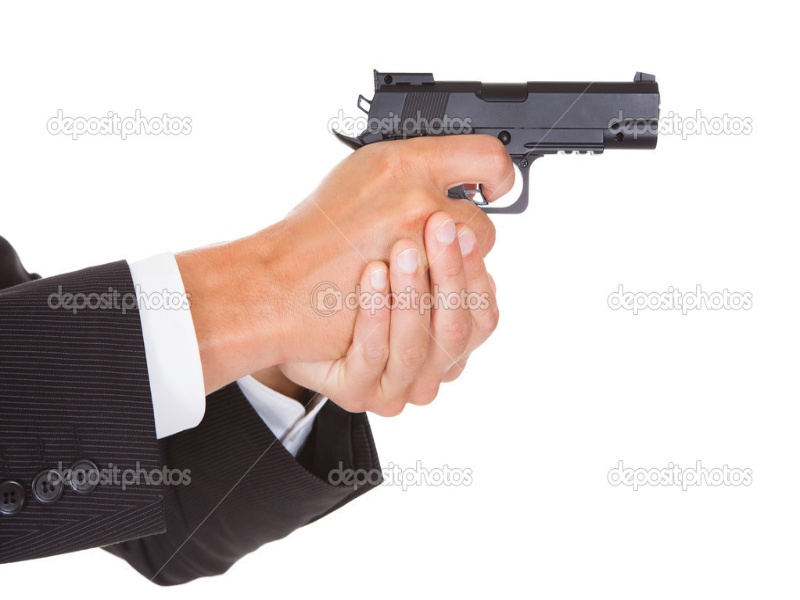gun: (332, 63, 663, 331)
